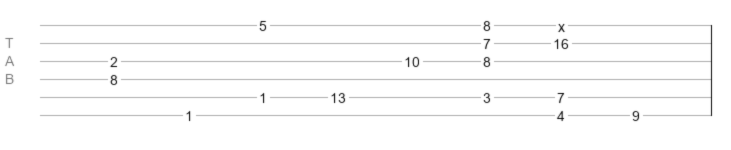1: (185, 108, 193, 118), (259, 90, 267, 100)
10: (404, 54, 420, 64)
13: (330, 90, 346, 100)
16: (553, 36, 569, 46)
2: (110, 54, 118, 64)
3: (483, 90, 491, 100)
4: (557, 108, 565, 118)
5: (259, 18, 267, 28)
7: (483, 36, 491, 46), (557, 90, 565, 100)
8: (110, 72, 118, 82), (483, 54, 491, 64), (483, 18, 491, 28)
9: (632, 108, 640, 118)
x: (558, 19, 565, 27)
